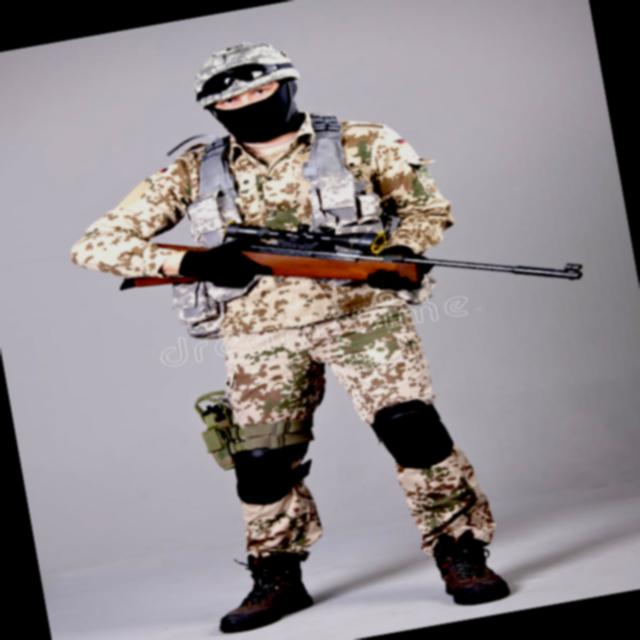rifle: (117, 157, 610, 370)
